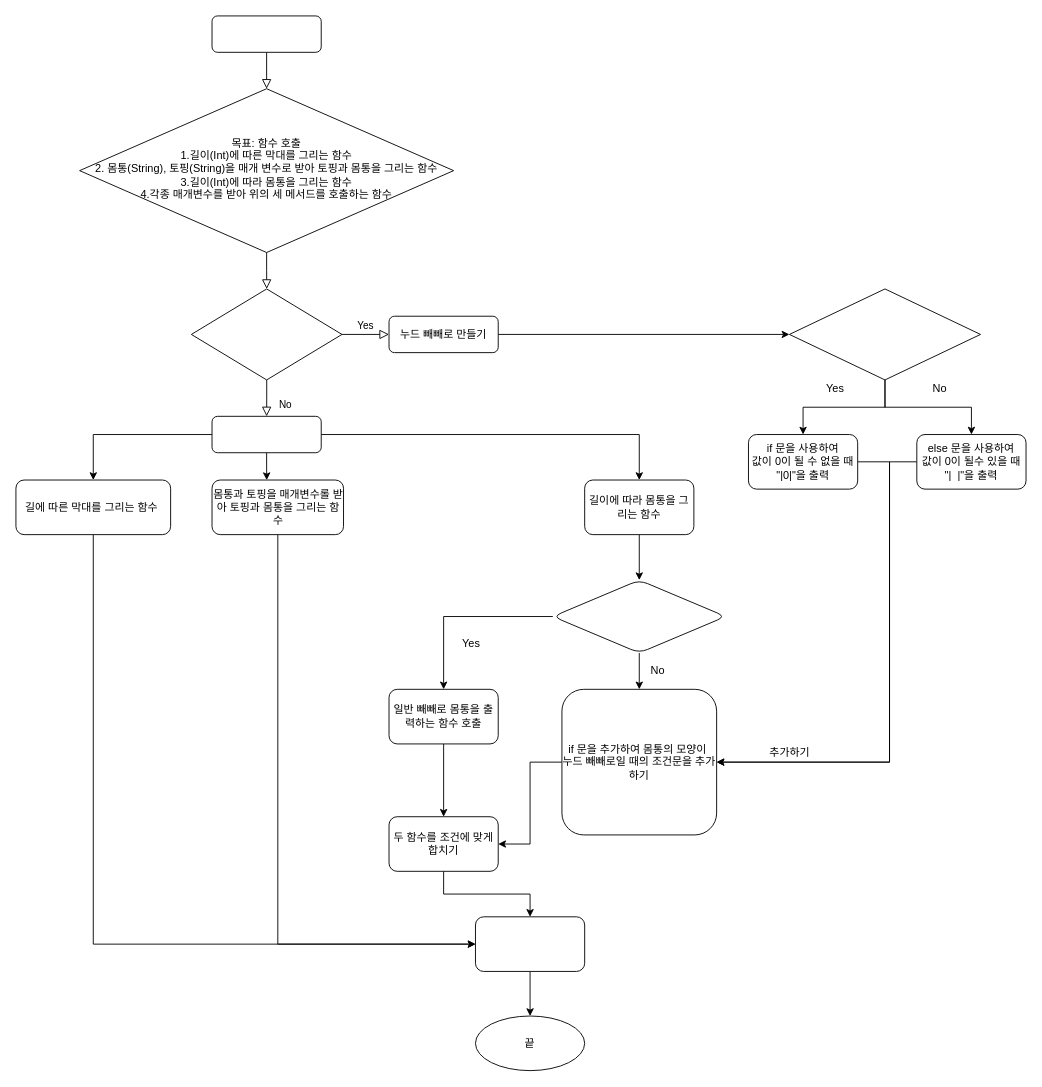
This 1042x1087 diagram has some shape labels left out. Here are the shapes that lost their labels. From the top down, the centre of each, then its label:
At (x=266, y=33): "시작".
At (x=266, y=334): "빼빼로가 누드 빼빼로인가".
At (x=885, y=334): "길이의 각 칸을 2로 나누었을 때 0과 같은가".
At (x=266, y=434): "빼빼로 실행".
At (x=639, y=616): "몸통의 모양이 *** 인가?".
At (x=530, y=943): "각종 매개변수를 받아 모든 메서드를 호출하는 함수 구현".
